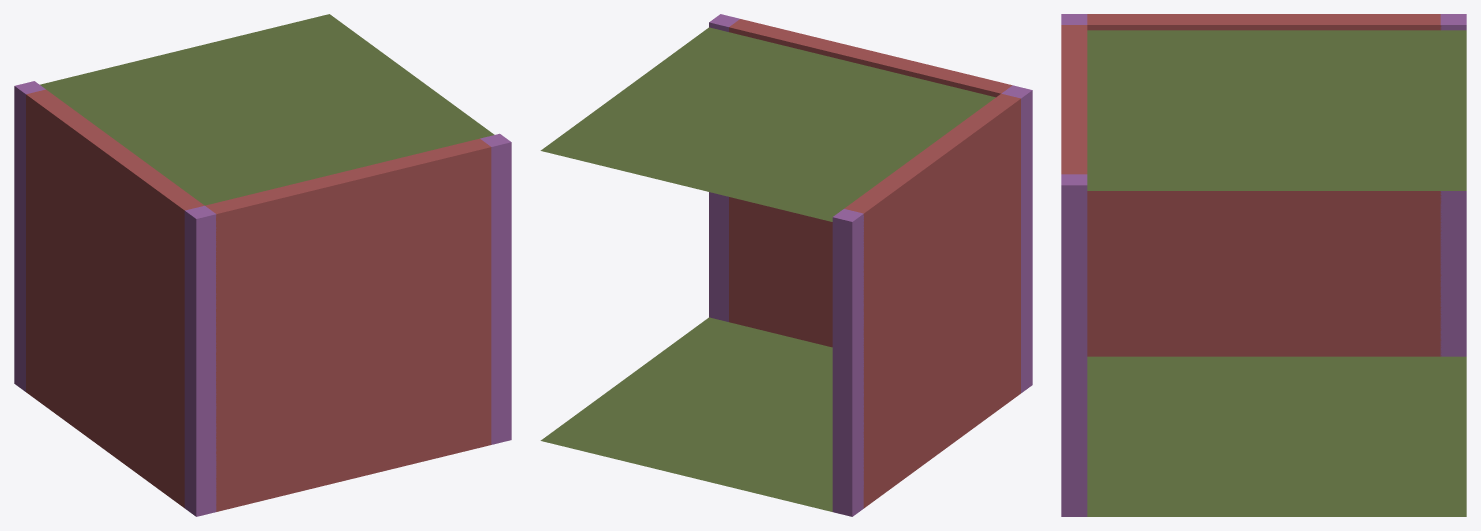
File: building_corner.fbx
3 views of the same model, side by side, from view 1: azimuth 30°, elevation 25°; view 2: azimuth 150°, elevation 25°; view 3: azimuth 270°, elevation 25° (orthographic). The views are drawn at different scales.
Visible parts, largest first — view 1: building_corner1; view 2: building_corner1; view 3: building_corner1.
Boxes of the visible parts, bbox=[...] form: building_corner1: bbox=[14, 14, 511, 516]; building_corner1: bbox=[540, 14, 1032, 516]; building_corner1: bbox=[1061, 14, 1466, 516].
Bounding box in the file's own units: 1 × 0.9033 × 1.
